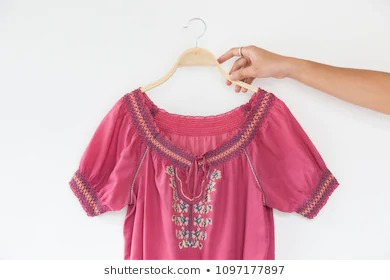C_short blouse: (70, 84, 339, 262)
